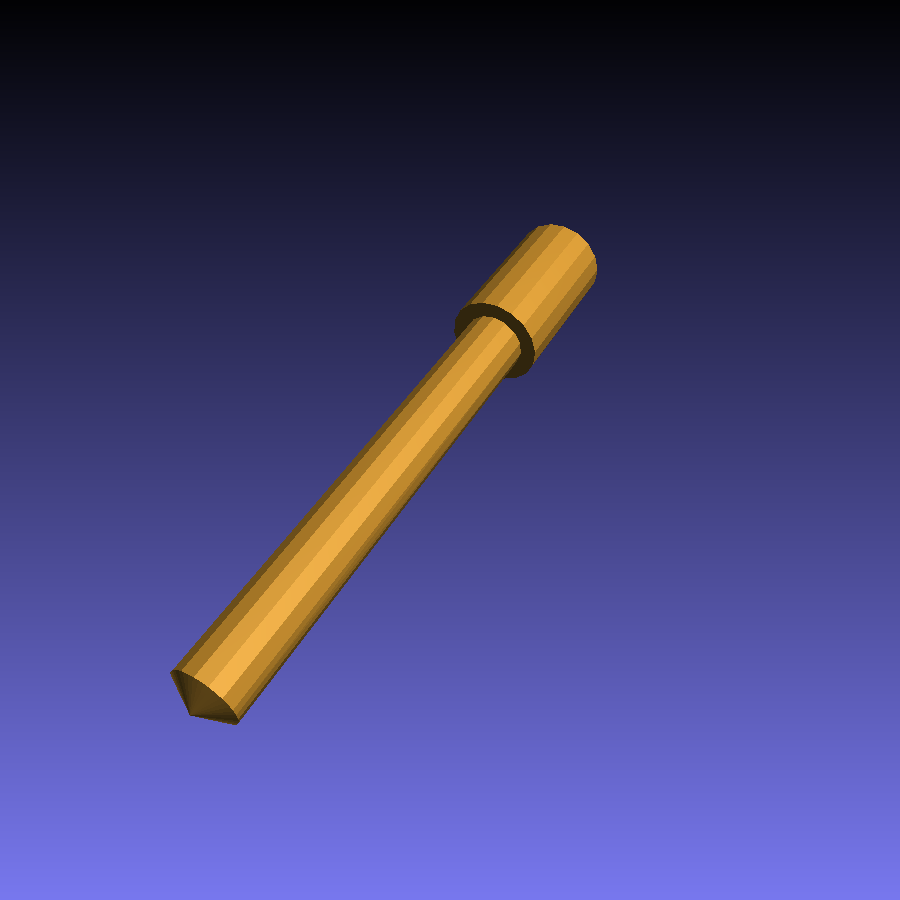cargo_g: (171, 222, 597, 724)
